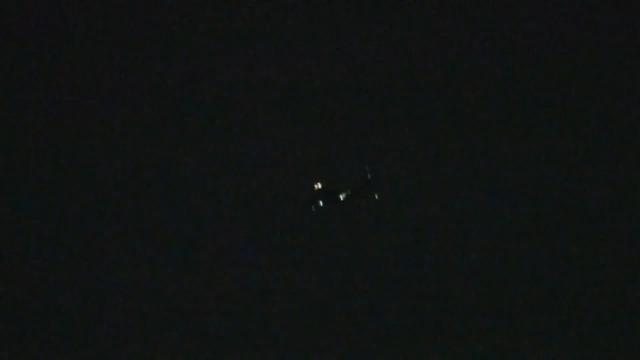Plane: (301, 167, 397, 221)
